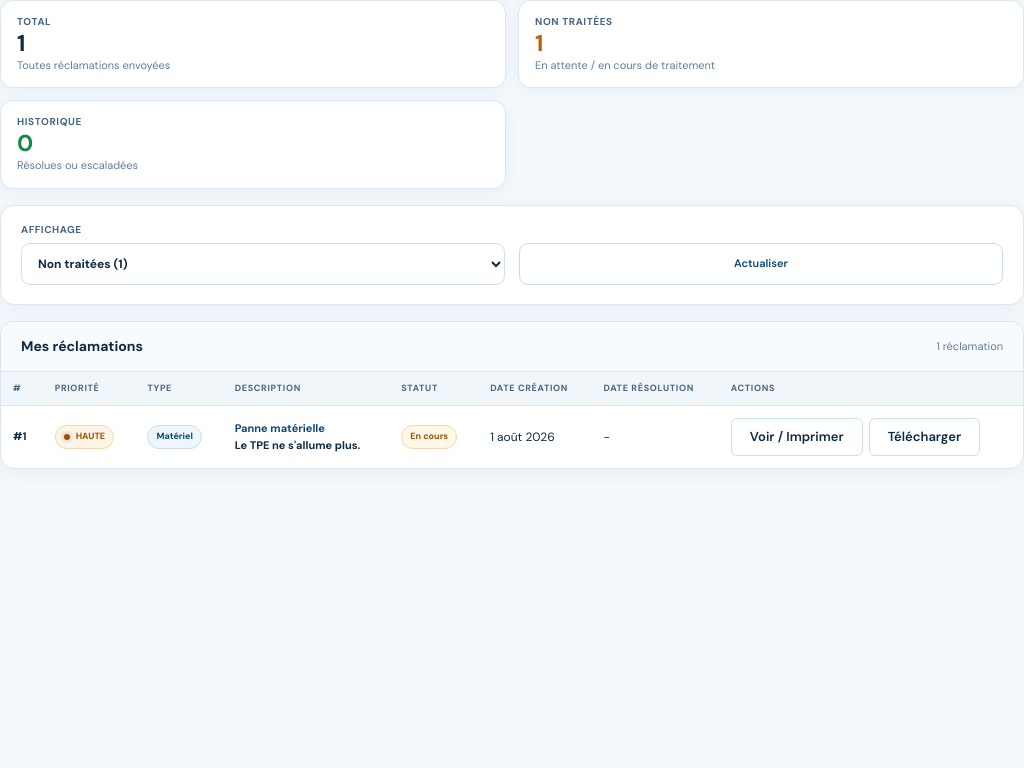
Test: CommercantMesReclamationsPage › affiche une erreur si le téléchargement échoue
The image size is (1024, 768).
Click the button "Télécharger" at (924, 437), box [869,418,980,456]
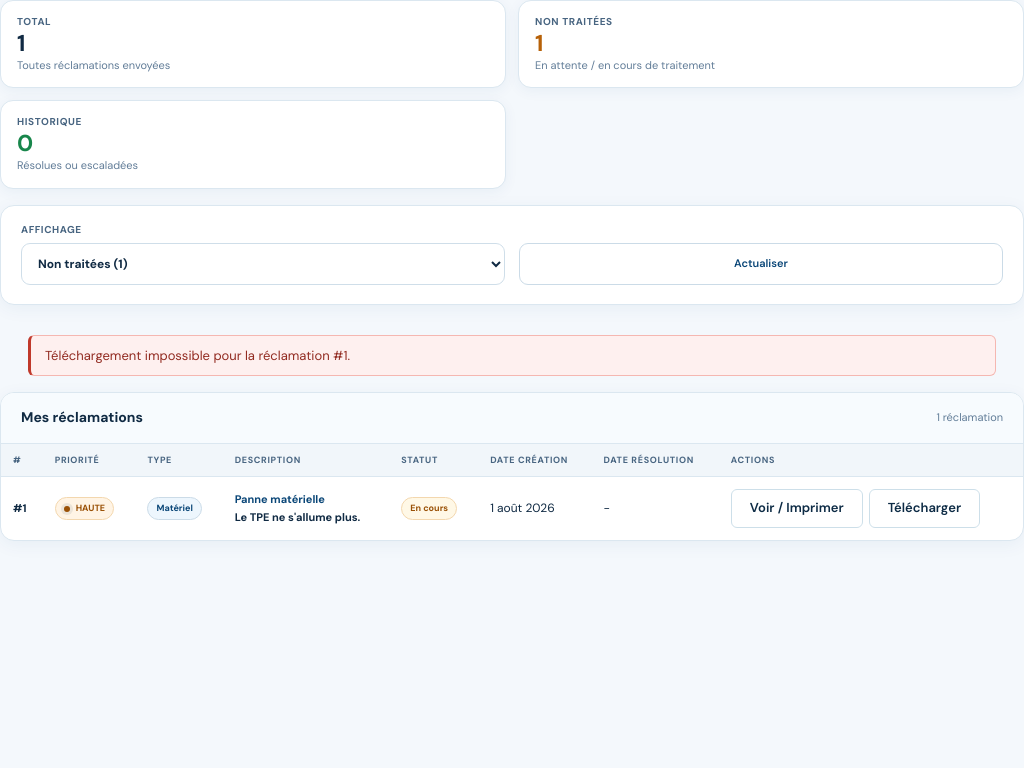
Expected: the text "Téléchargement impossible pour la réclamation #1." is shown, [28,335,996,376]
